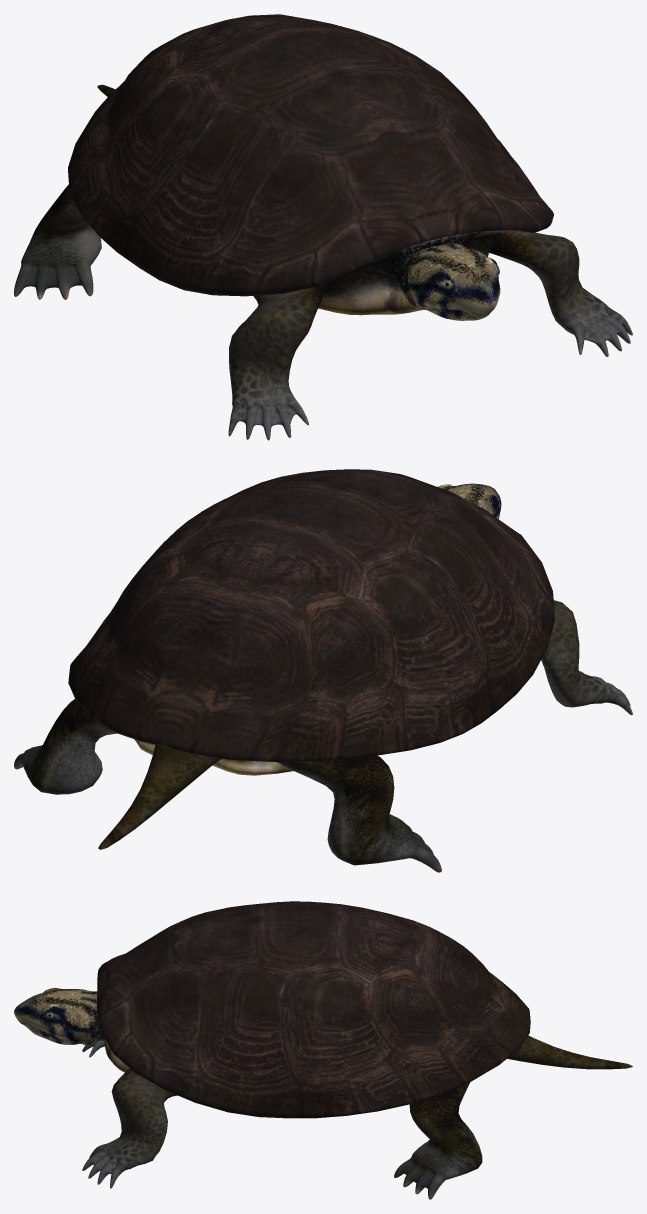
Rendered from TortugaCandado_01.glb.
3 renders of one model, top to bottom at view 1: azimuth 30°, elevation 25°; view 2: azimuth 150°, elevation 25°; view 3: azimuth 270°, elevation 25°, orthographic. The views are drawn at different scales.
Visible parts, largest first — view 1: TortugaCandado; view 2: TortugaCandado; view 3: TortugaCandado.
Part boxes in pixels (x1,y1,x2,y2): TortugaCandado: (14,14,632,440); TortugaCandado: (14,469,632,872); TortugaCandado: (14,901,632,1199).
Bounding box in the file's own units: 1.79 × 1.03 × 2.86.
Materials: 1 (1 with a texture image).
